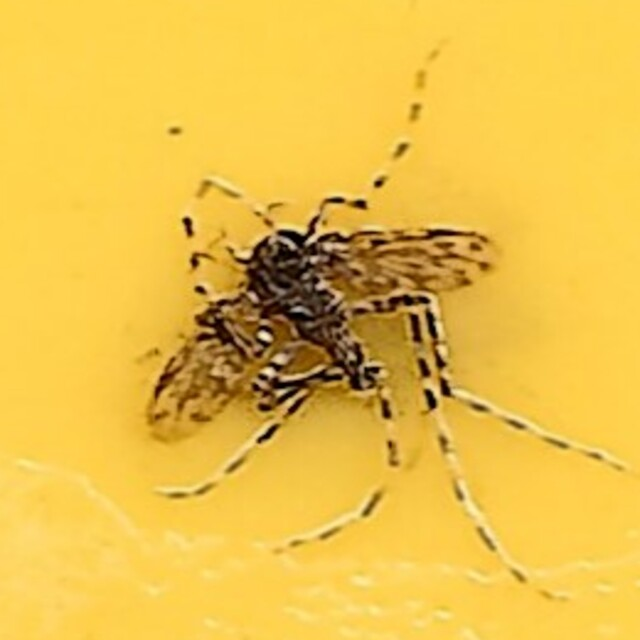Nematocera: (246, 218, 394, 422)
